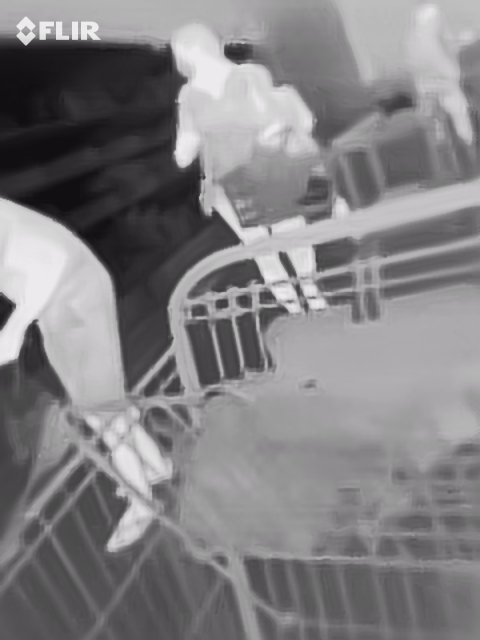head: (168, 23, 223, 77)
